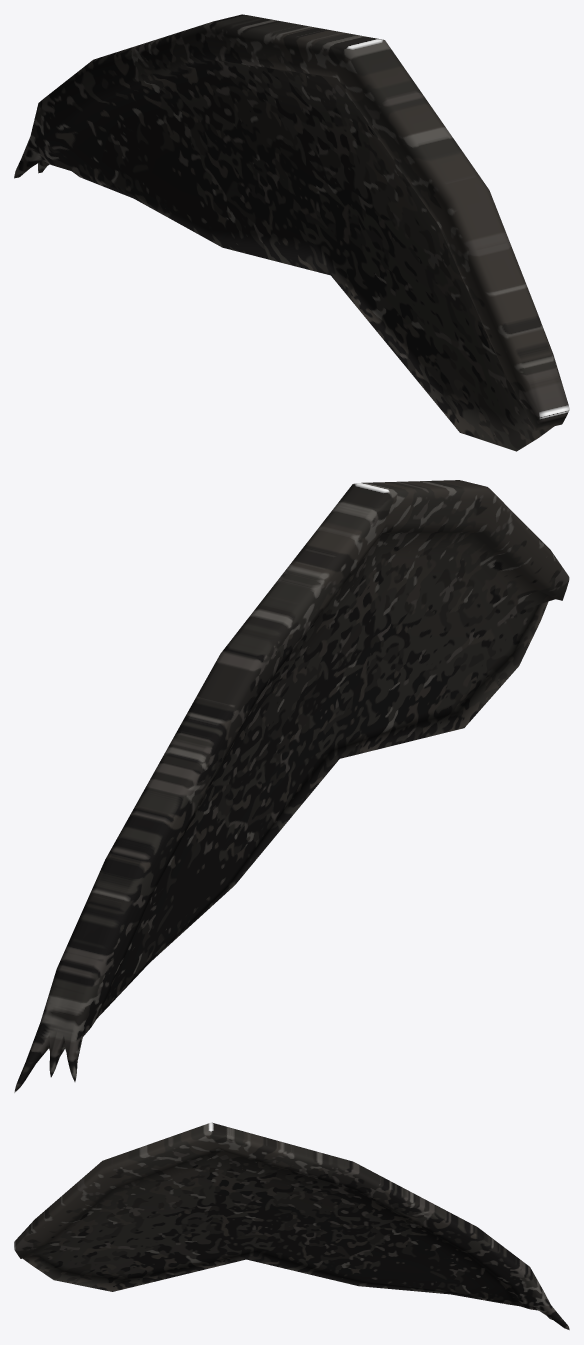
Rendered from batwing.fbx.
3 renders of one model, top to bottom at view 1: azimuth 30°, elevation 25°; view 2: azimuth 150°, elevation 25°; view 3: azimuth 270°, elevation 25°, orthographic. The views are drawn at different scales.
Visible parts, largest first — view 1: pCube1; view 2: pCube1; view 3: pCube1.
Part boxes in pixels (x1=…): pCube1: x1=14, y1=14, x2=569, y2=451; pCube1: x1=14, y1=480, x2=569, y2=1093; pCube1: x1=14, y1=1122, x2=569, y2=1330.
Bounding box in the file's own units: 0.219 × 1.67 × 4.26.
